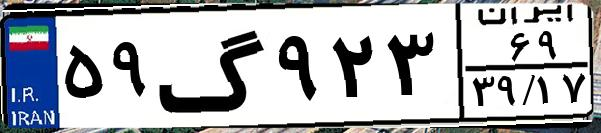1: (535, 70, 560, 125)
2: (330, 28, 385, 110)
3: (385, 28, 445, 110), (470, 70, 495, 125)
5: (57, 26, 110, 100)
6: (508, 27, 537, 80)
7: (560, 70, 590, 125)
9: (270, 28, 330, 110), (110, 28, 156, 98), (537, 27, 568, 80), (495, 70, 520, 125)
گ: (156, 12, 270, 120)
